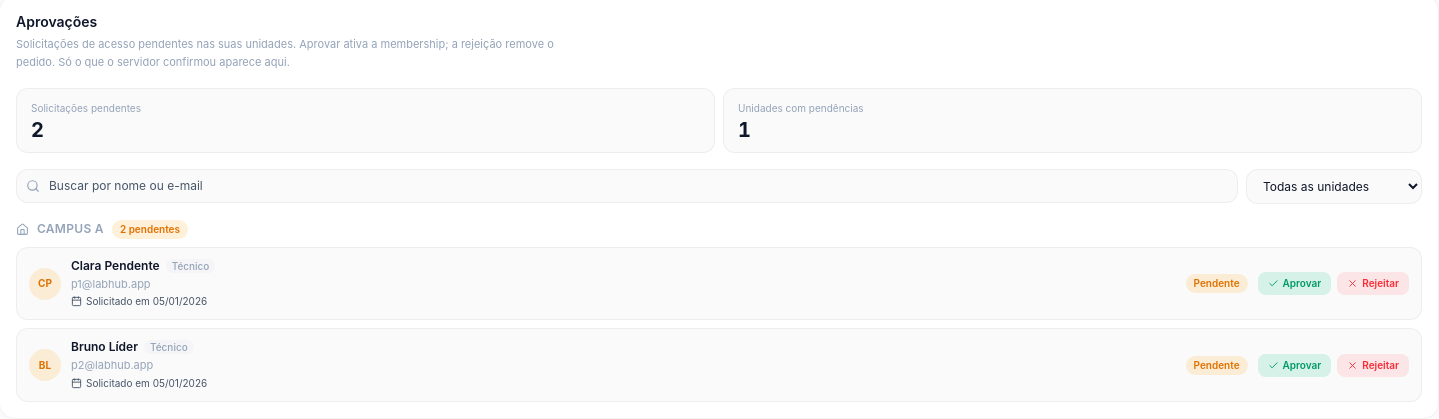
Scenario: CoordinatorApprovalsTab — fila de aprovações READ-ONLY sobre o escopo (V1) › busca por e-mail filtra a fila
The width and height of the screenshot is (1439, 419).
Type "p2@labhub" into the search field with test id "approvals-search".
click(627, 186); type("p2@labhub")  # box left=16, top=169, right=1238, bottom=203
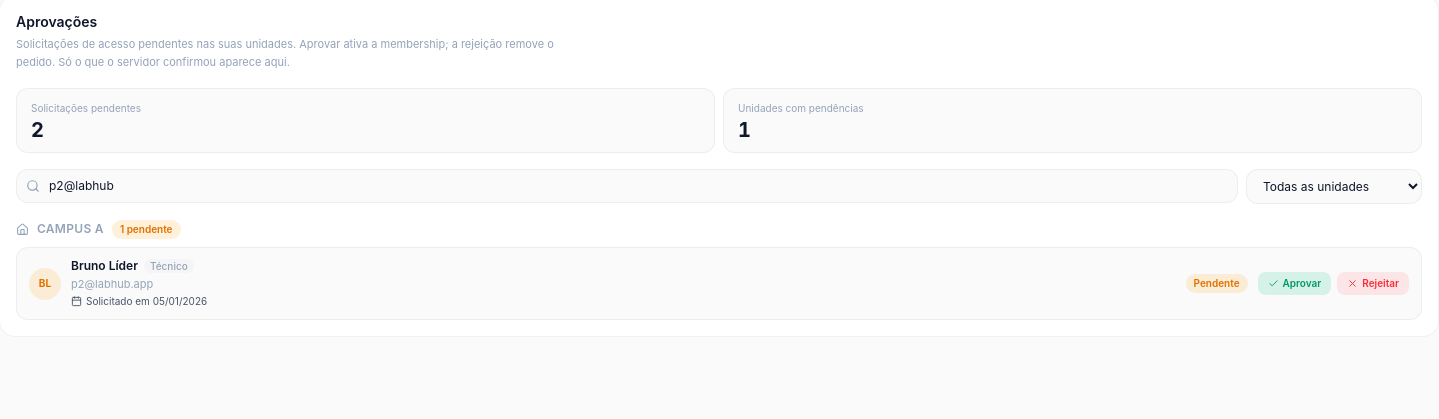
Expected: the text "Bruno Líder" is shown, left=71, top=258, right=138, bottom=274
Expected: the text "Clara Pendente" is gone
